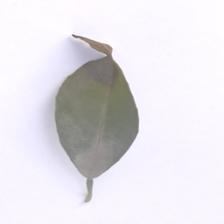black spot: (47, 41, 152, 161)
